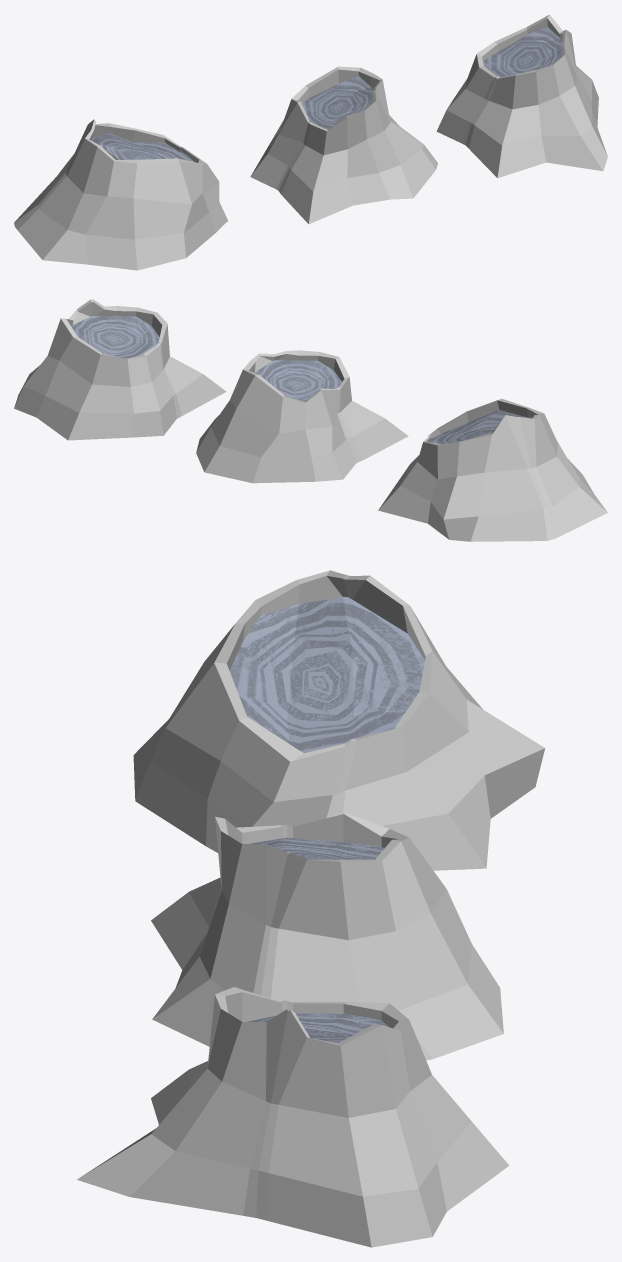
File: Trunks.fbx
3 views of the same model, one above another, from view 1: azimuth 30°, elevation 25°; view 2: azimuth 150°, elevation 25°; view 3: azimuth 270°, elevation 25° (orthographic). The views are drawn at different scales.
Parts seen in each view (by area): view 1: Cube.003, Cube, Cube.002; view 2: Cube.003, Cube.002, Cube; view 3: Cube.003, Cube, Cube.002.
Part boxes in pixels (<box>): Cube.003: <box>14,119,227,270</box>; Cube: <box>436,14,607,178</box>; Cube.002: <box>250,66,437,224</box>; Cube.003: <box>378,398,607,541</box>; Cube.002: <box>196,350,408,483</box>; Cube: <box>14,299,226,440</box>; Cube.003: <box>133,570,545,870</box>; Cube: <box>77,987,509,1247</box>; Cube.002: <box>151,813,503,1060</box>.
Bounding box in the file's own units: 1855 × 310 × 668.
